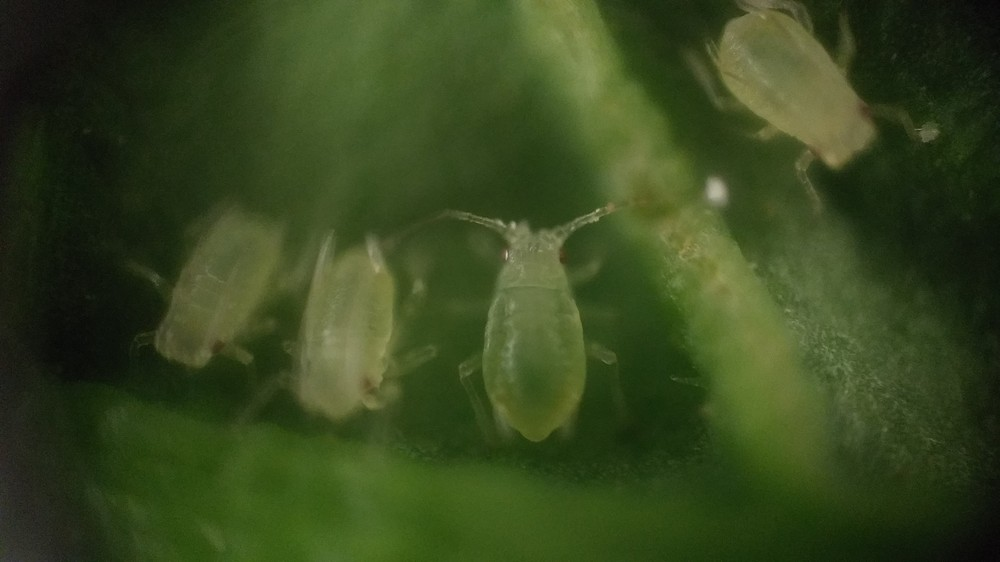Pulgon: (437, 191, 658, 460), (670, 6, 936, 211), (273, 215, 445, 460), (115, 186, 293, 405)
